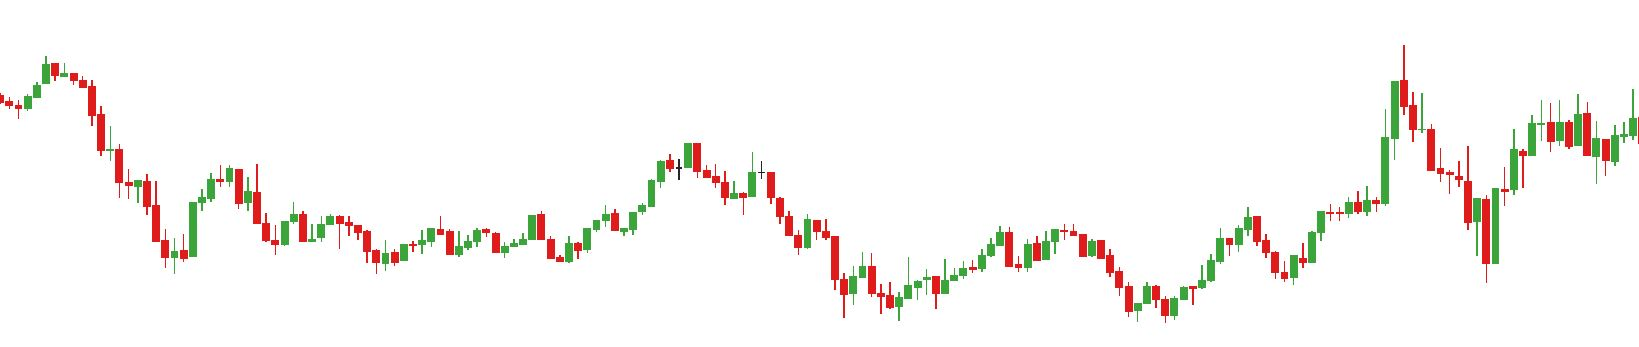buy: (1342, 146, 1483, 275)
